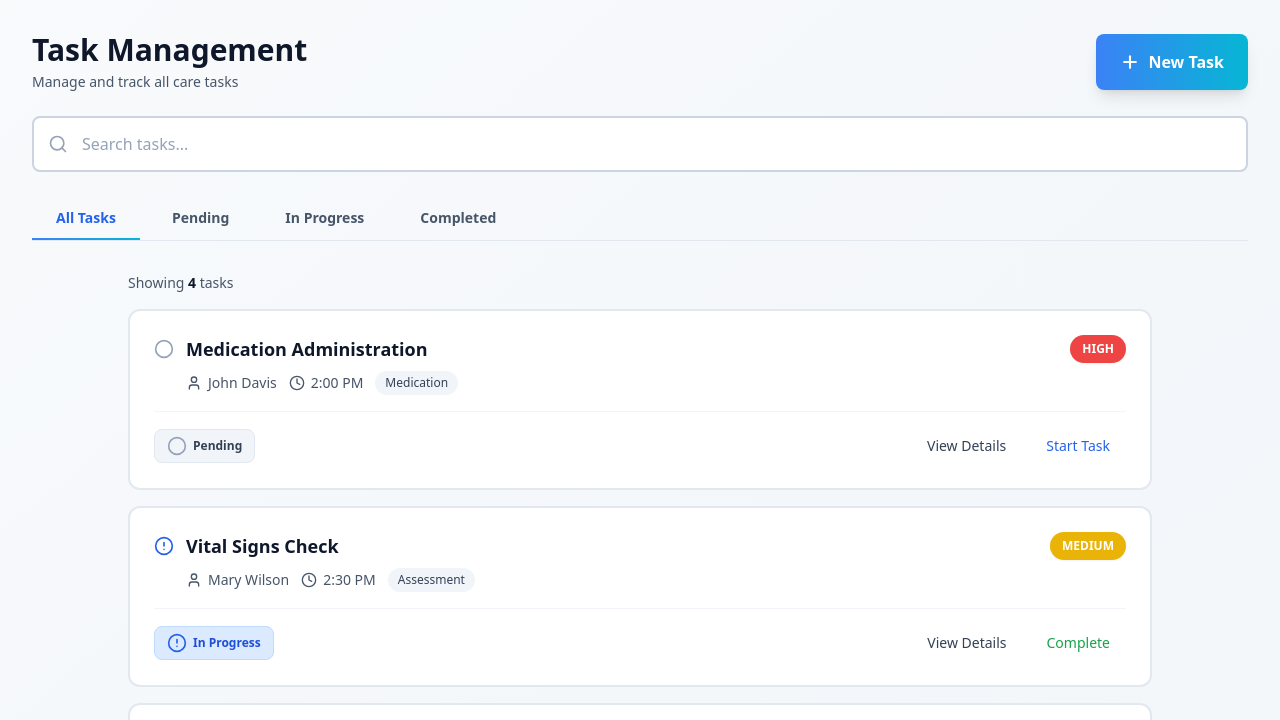
TaskManagement Component › shows an empty state when no tasks match search
The image size is (1280, 720).
Type "NonExistentTask" into the field with placeholder "Search tasks...".
click(640, 144); type("NonExistentTask")  # box top-left (32, 116), bottom-right (1248, 172)
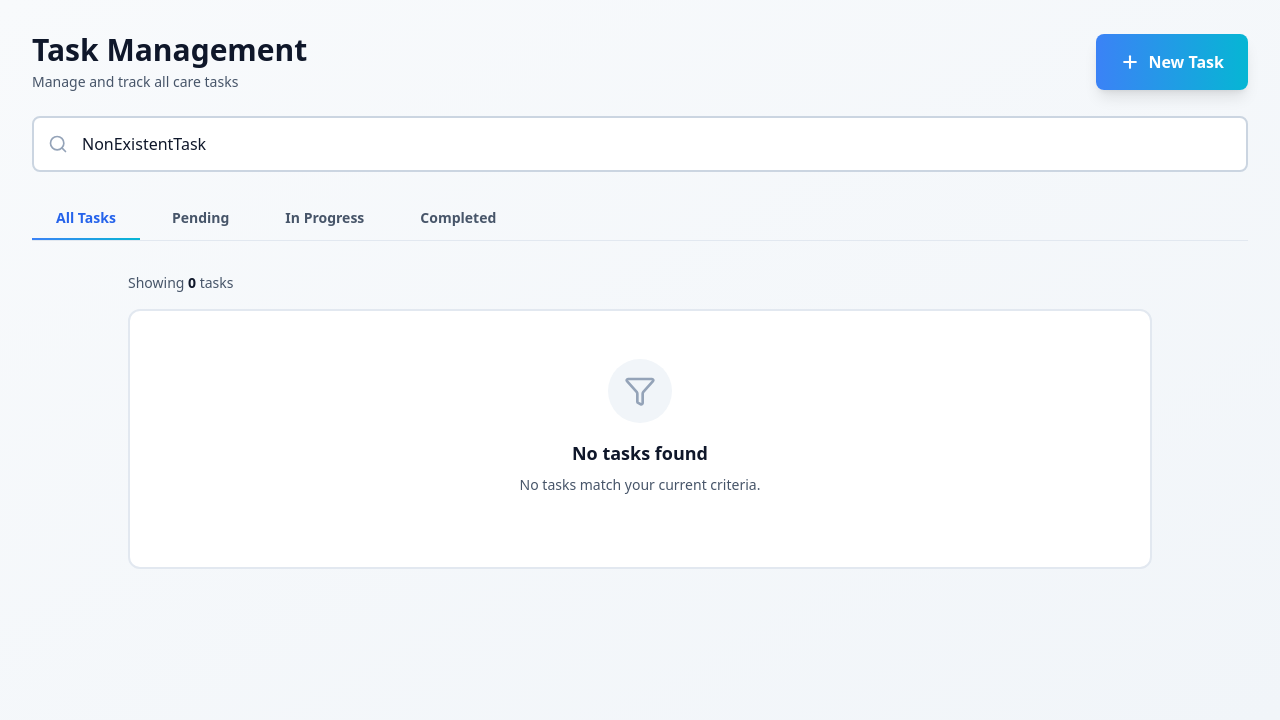
Now the heading "No tasks found" is shown, box top-left (572, 441), bottom-right (708, 465)
